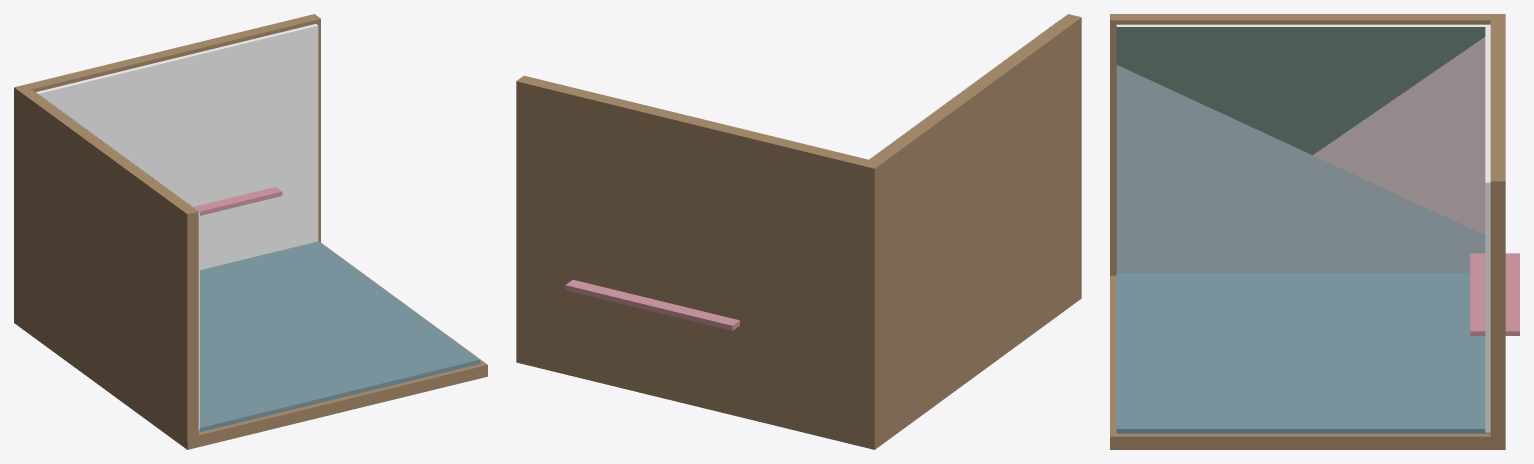
The model's file is Furn4_wall_floor_color3.fbx.
The picture shows the model from 3 angles, left to right: view 1: azimuth 30°, elevation 25°; view 2: azimuth 150°, elevation 25°; view 3: azimuth 270°, elevation 25°; orthographic projection. The views are drawn at different scales.
Parts seen in each view (by area): view 1: Куб.336, Куб.335, Куб.338; view 2: Куб.336, Куб.335, Куб.338; view 3: Цилиндр.001, Куб.335, Куб.336, Куб.338.
Boxes of the visible parts, <box> form: Куб.336: <box>14,14,320,440</box>; Куб.335: <box>14,241,487,449</box>; Куб.338: <box>193,187,282,215</box>; Куб.336: <box>516,14,1081,439</box>; Куб.335: <box>516,288,1081,449</box>; Куб.338: <box>565,279,739,330</box>; Цилиндр.001: <box>1116,27,1485,272</box>; Куб.335: <box>1110,273,1505,449</box>; Куб.336: <box>1110,14,1505,439</box>; Куб.338: <box>1470,253,1519,335</box>.
Size of the model in its own units: 911 by 682 by 943.
